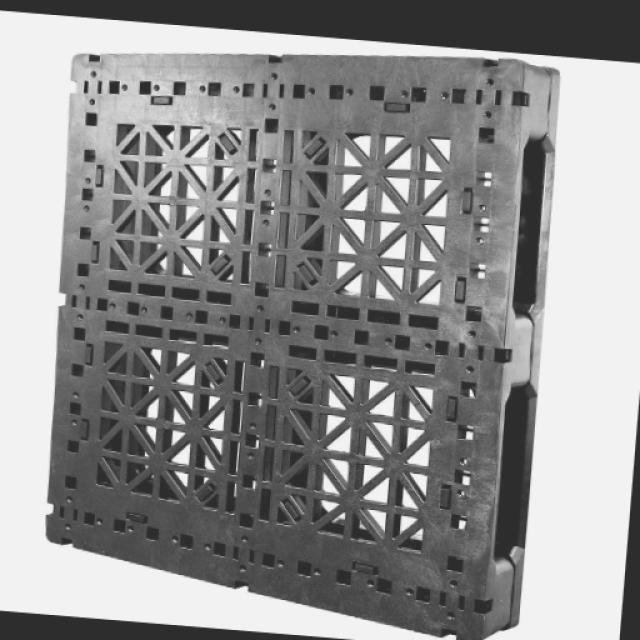non-igps: (36, 44, 570, 640)
